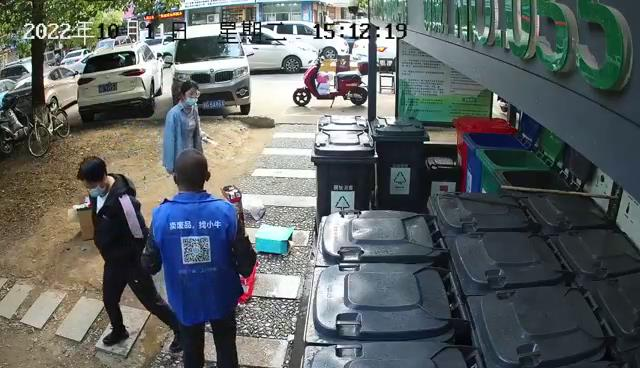person: (76, 156, 186, 353)
worker: (163, 79, 204, 179)
zhizhipin: (254, 222, 295, 257), (67, 197, 93, 241), (219, 184, 245, 226)
